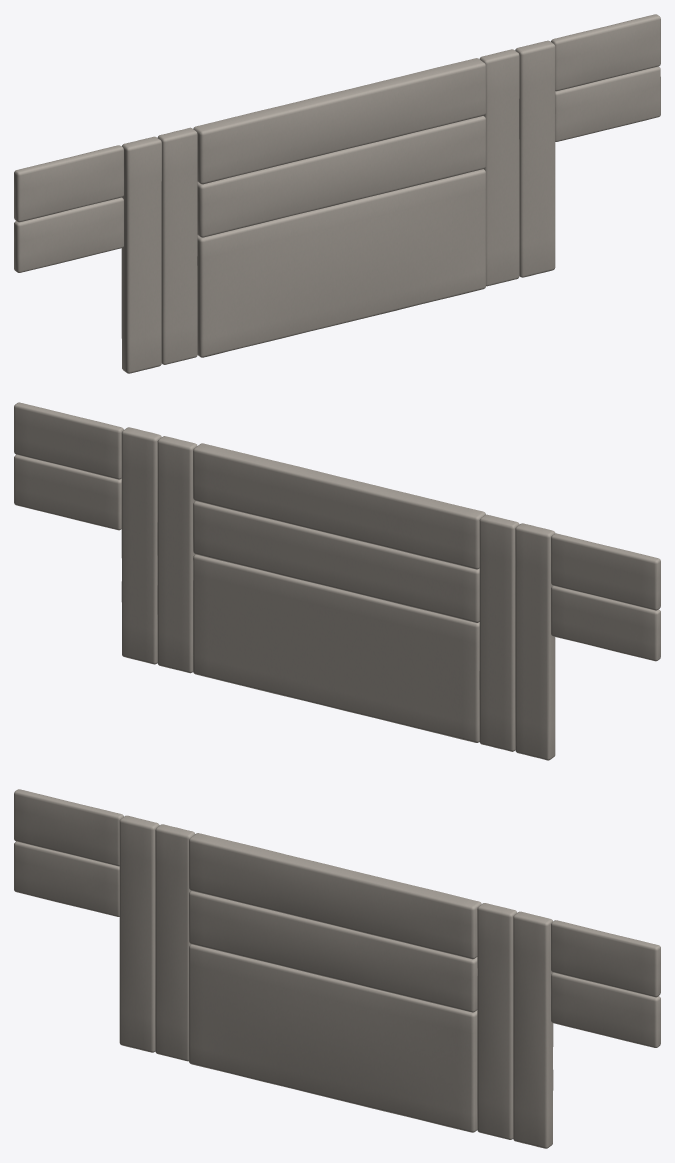
The model's file is stanza-headboard-panels-01-mobile.glb.
3 renders of one model, top to bottom at view 1: azimuth 30°, elevation 25°; view 2: azimuth 150°, elevation 25°; view 3: azimuth 330°, elevation 25°, orthographic.
Parts seen in each view (by area): view 1: center_panel_bottom, center_panel_top, center_panel_middle, strip_left_outer, strip_right_outer, strip_left_inner, strip_right_inner, side_left_top, side_right_top, side_left_bottom, side_right_bottom; view 2: center_panel_bottom, center_panel_top, center_panel_middle, strip_left_outer, strip_left_inner, strip_right_outer, strip_right_inner, side_left_top, side_right_top, side_left_bottom, side_right_bottom; view 3: center_panel_bottom, center_panel_top, center_panel_middle, strip_right_outer, strip_left_outer, strip_right_inner, strip_left_inner, side_right_top, side_left_top, side_right_bottom, side_left_bottom.
Part boxes in pixels (bbox=[...]): center_panel_bottom: bbox=[197, 169, 485, 357]; center_panel_top: bbox=[193, 58, 485, 184]; center_panel_middle: bbox=[197, 116, 485, 237]; strip_left_outer: bbox=[121, 136, 161, 373]; strip_right_outer: bbox=[515, 40, 555, 277]; strip_left_inner: bbox=[157, 127, 197, 364]; strip_right_inner: bbox=[479, 49, 519, 286]; side_left_top: bbox=[14, 145, 123, 222]; side_right_top: bbox=[551, 14, 660, 91]; side_left_bottom: bbox=[14, 197, 123, 272]; side_right_bottom: bbox=[555, 66, 660, 141]; center_panel_bottom: bbox=[193, 554, 479, 742]; center_panel_top: bbox=[193, 443, 485, 569]; center_panel_middle: bbox=[193, 501, 479, 622]; strip_left_outer: bbox=[515, 523, 555, 760]; strip_left_inner: bbox=[479, 514, 519, 751]; strip_right_outer: bbox=[121, 427, 161, 664]; strip_right_inner: bbox=[157, 436, 197, 673]; side_left_top: bbox=[551, 533, 660, 610]; side_right_top: bbox=[14, 402, 123, 479]; side_left_bottom: bbox=[551, 585, 660, 661]; side_right_bottom: bbox=[14, 454, 121, 530]; center_panel_bottom: bbox=[189, 944, 477, 1132]; center_panel_top: bbox=[189, 833, 481, 959]; center_panel_middle: bbox=[189, 891, 477, 1012]; strip_right_outer: bbox=[513, 911, 553, 1148]; strip_left_outer: bbox=[119, 815, 159, 1052]; strip_right_inner: bbox=[477, 903, 517, 1139]; strip_left_inner: bbox=[155, 824, 194, 1061]; side_right_top: bbox=[551, 920, 660, 997]; side_left_top: bbox=[14, 789, 123, 866]; side_right_bottom: bbox=[551, 972, 660, 1047]; side_left_bottom: bbox=[14, 841, 119, 916].
Bounding box in the file's own units: 3.6 × 1.21 × 0.1025.
1 material, 1 textured.
